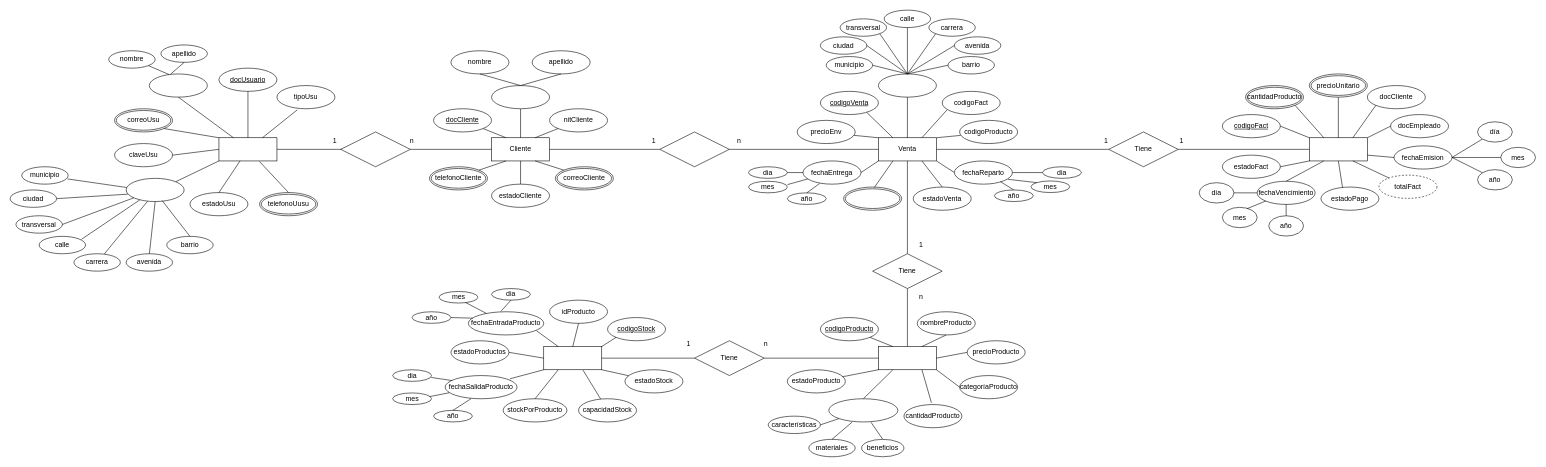
This 1546x467 diagram has some shape labels left out. The shapes that lost their labels are listed below. From the top down, each one's centre as x and y in pixels, then its label:
At point (178, 85): "nombreUsu".
At point (520, 97): "nombreCliente".
At point (907, 85): "direccionEnvio".
At point (247, 149): "Usuario".
At point (375, 149): "Gestiona".
At point (694, 149): "Produce".
At point (1338, 149): "Factura".
At point (155, 190): "direccionUsu".
At point (872, 198): "productoEnviado".
At point (572, 358): "Stock".
At point (907, 358): "Producto".
At point (863, 410): "descripciónProducto".
